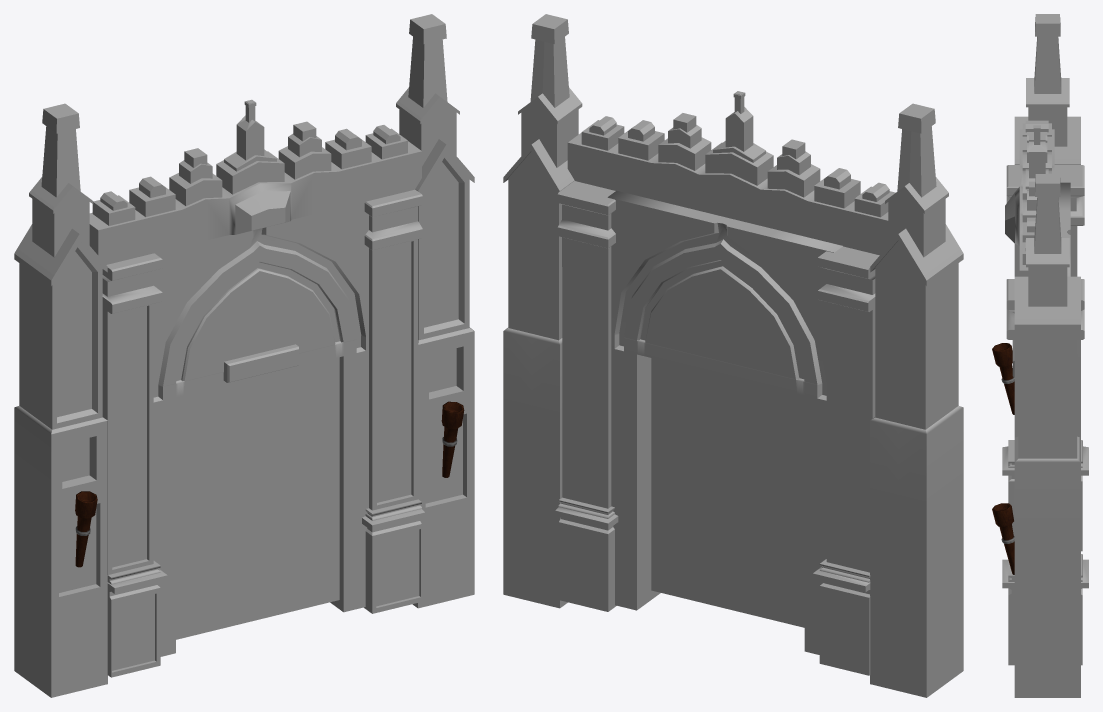
The model's file is PortePierre 1.fbx.
The picture shows the model from 3 angles, left to right: view 1: azimuth 30°, elevation 25°; view 2: azimuth 150°, elevation 25°; view 3: azimuth 270°, elevation 25°; orthographic projection. The views are drawn at different scales.
Visible parts, largest first — view 1: polySurface14, polySurface15, polySurface7, pCube5, pCube12, Torche1, Torche; view 2: polySurface14, polySurface15, polySurface7, pCube5, pCube12; view 3: polySurface7, polySurface15, polySurface14, Torche, Torche1.
Part boxes in pixels (x1,y1,x2,y2): polySurface14: [89, 99, 421, 656]; polySurface15: [14, 103, 167, 697]; polySurface7: [362, 14, 474, 613]; pCube5: [256, 357, 339, 619]; pCube12: [176, 377, 256, 639]; Torche1: [75, 491, 97, 567]; Torche: [441, 401, 464, 477]; polySurface14: [567, 91, 895, 654]; polySurface15: [812, 103, 963, 697]; polySurface7: [503, 14, 618, 611]; pCube5: [651, 358, 734, 610]; pCube12: [734, 378, 804, 627]; polySurface7: [1002, 174, 1088, 697]; polySurface15: [1002, 14, 1088, 551]; polySurface14: [1005, 120, 1070, 377]; Torche: [992, 503, 1014, 574]; Torche1: [992, 343, 1014, 414].
Bounding box in the file's own units: 5.89 × 7.53 × 1.31.
